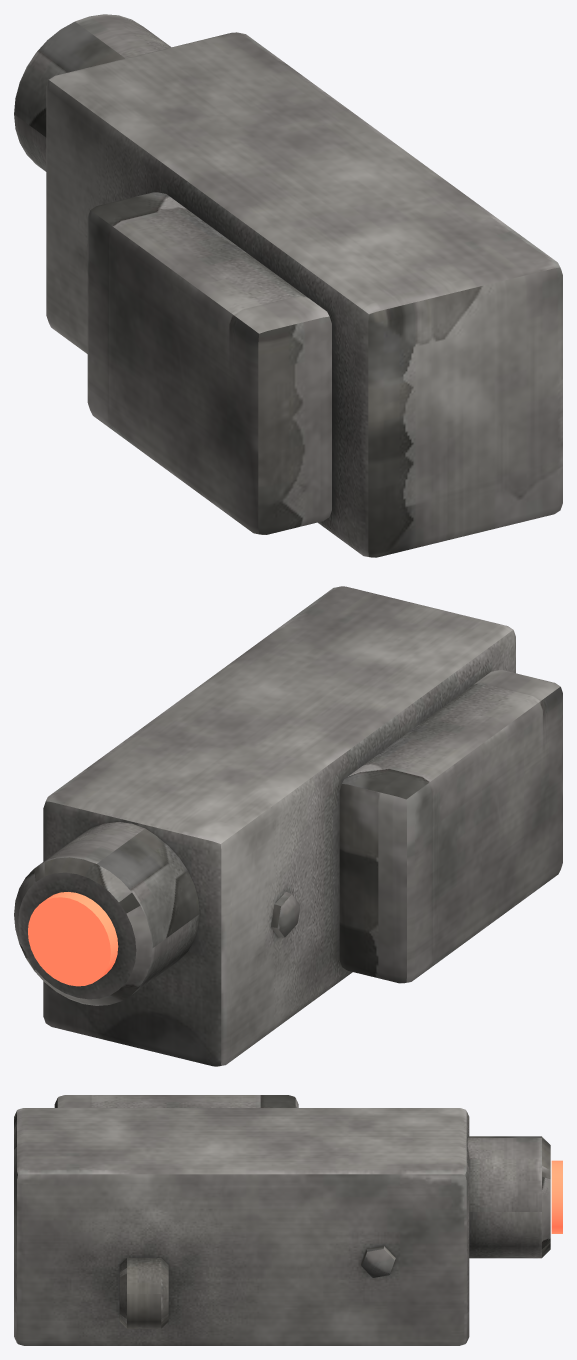
Rendered from laser.glb.
3 views of the same model, one above another, from view 1: azimuth 30°, elevation 25°; view 2: azimuth 150°, elevation 25°; view 3: azimuth 270°, elevation 25° (orthographic). The views are drawn at different scales.
Parts seen in each view (by area): view 1: box, clamp, barrel; view 2: box, clamp, barrel, emitter, box_screw.001; view 3: box, barrel, dial, clamp, emitter, box_screw.
Boxes of the visible parts, x1,y1,x2,y2 form: box: (46, 32, 562, 557); clamp: (87, 192, 331, 534); barrel: (14, 14, 170, 171); box: (43, 586, 515, 1066); clamp: (339, 670, 562, 983); barrel: (14, 822, 199, 1005); emitter: (28, 892, 118, 986); box_screw.001: (271, 891, 299, 937); box: (14, 1108, 469, 1345); barrel: (467, 1136, 550, 1258); dial: (119, 1258, 168, 1328); clamp: (54, 1095, 298, 1107); emitter: (551, 1160, 562, 1233); box_screw: (361, 1246, 395, 1277).
Size of the model in its own units: 0.033 by 0.024 by 0.0675.
2 materials, 1 textured.
